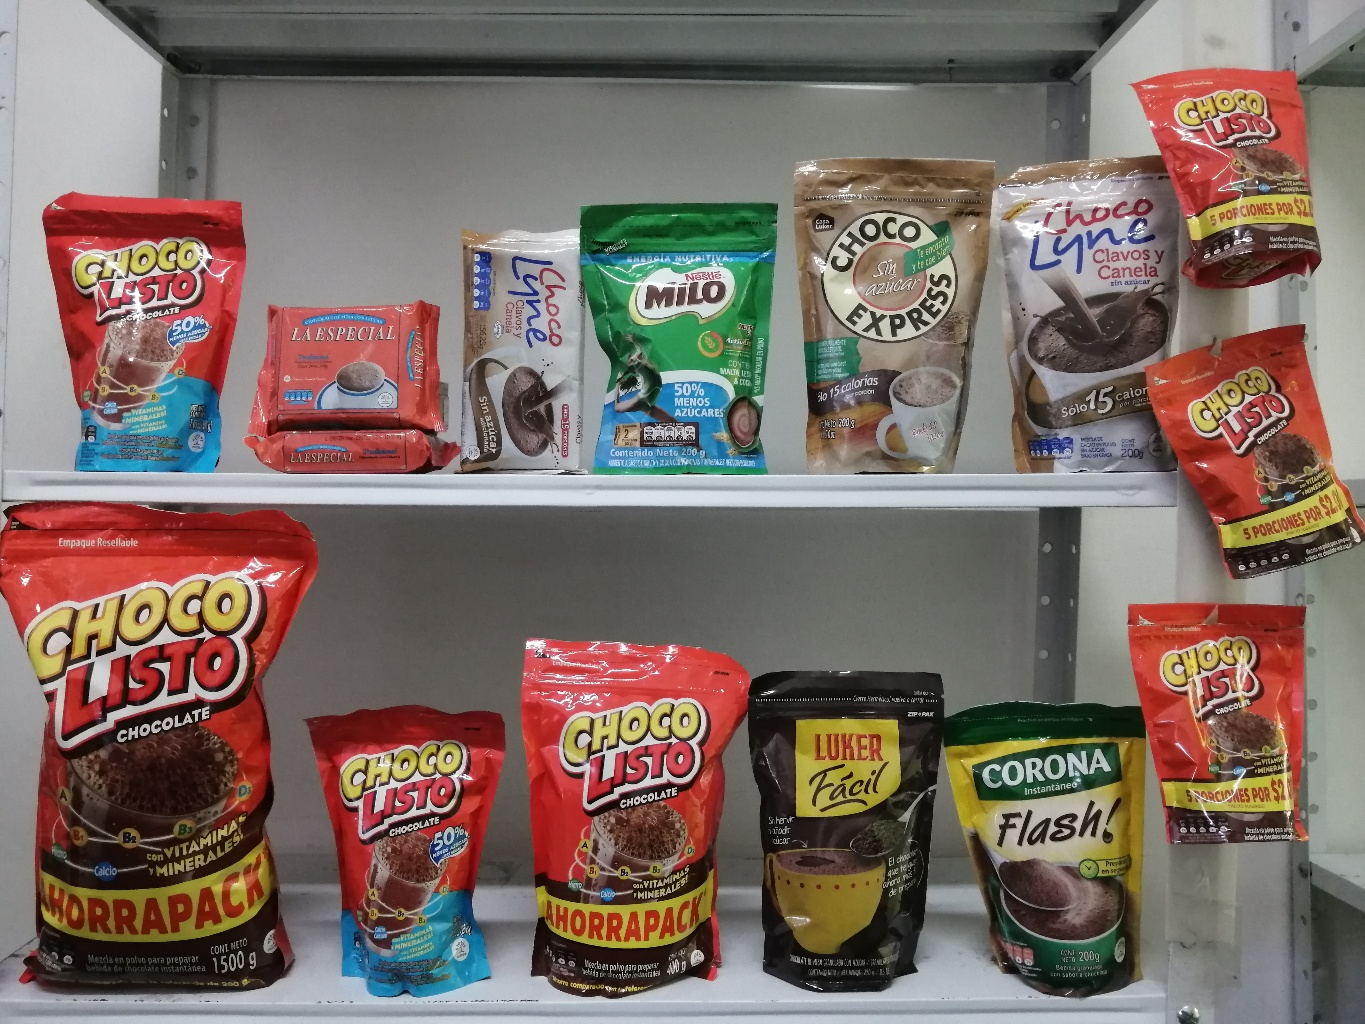COL0170103DYP1,500: (5, 489, 330, 1005)
COL0170103DYP10000: (1117, 48, 1348, 293)
COL0170103DYP40000: (510, 629, 750, 1010)
COL0170104DYP20000: (22, 175, 258, 474)
COL0170205DYP20000: (567, 186, 788, 480)
